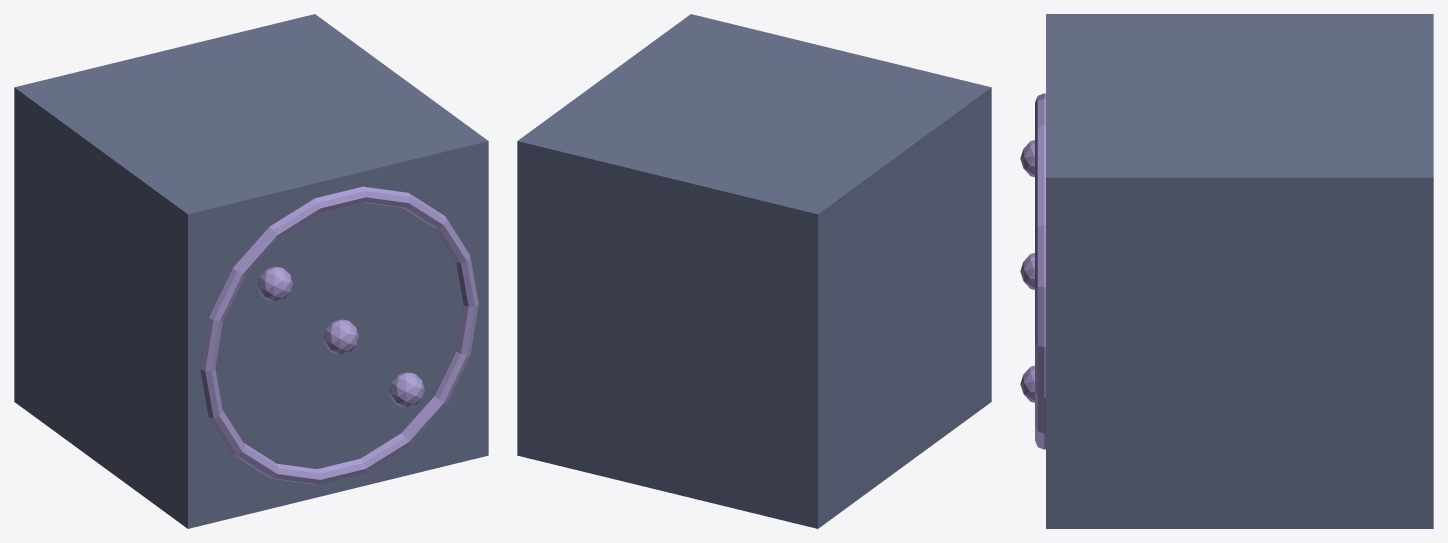
File: schatten.glb
The picture shows the model from 3 angles, left to right: view 1: azimuth 30°, elevation 25°; view 2: azimuth 150°, elevation 25°; view 3: azimuth 270°, elevation 25°; orthographic projection. The views are drawn at different scales.
Visible parts, largest first — view 1: world; view 2: world; view 3: world.
Part boxes in pixels (bbox=[...]): world: bbox=[14, 14, 488, 528]; world: bbox=[517, 14, 991, 528]; world: bbox=[1020, 14, 1433, 528].
Bounding box in the file's own units: 1.05 × 1.05 × 1.12.
